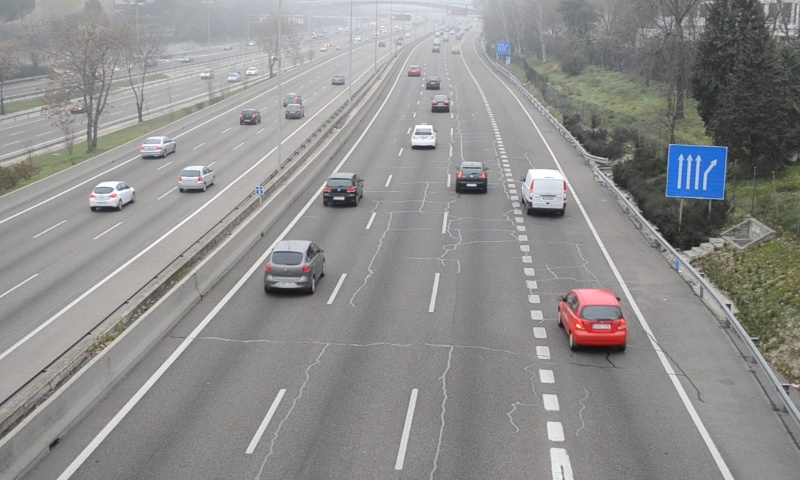car: (558, 288, 627, 348), (264, 241, 326, 291), (322, 172, 362, 205), (456, 160, 487, 191), (410, 123, 436, 148), (431, 94, 450, 113)
van: (525, 168, 567, 214)
